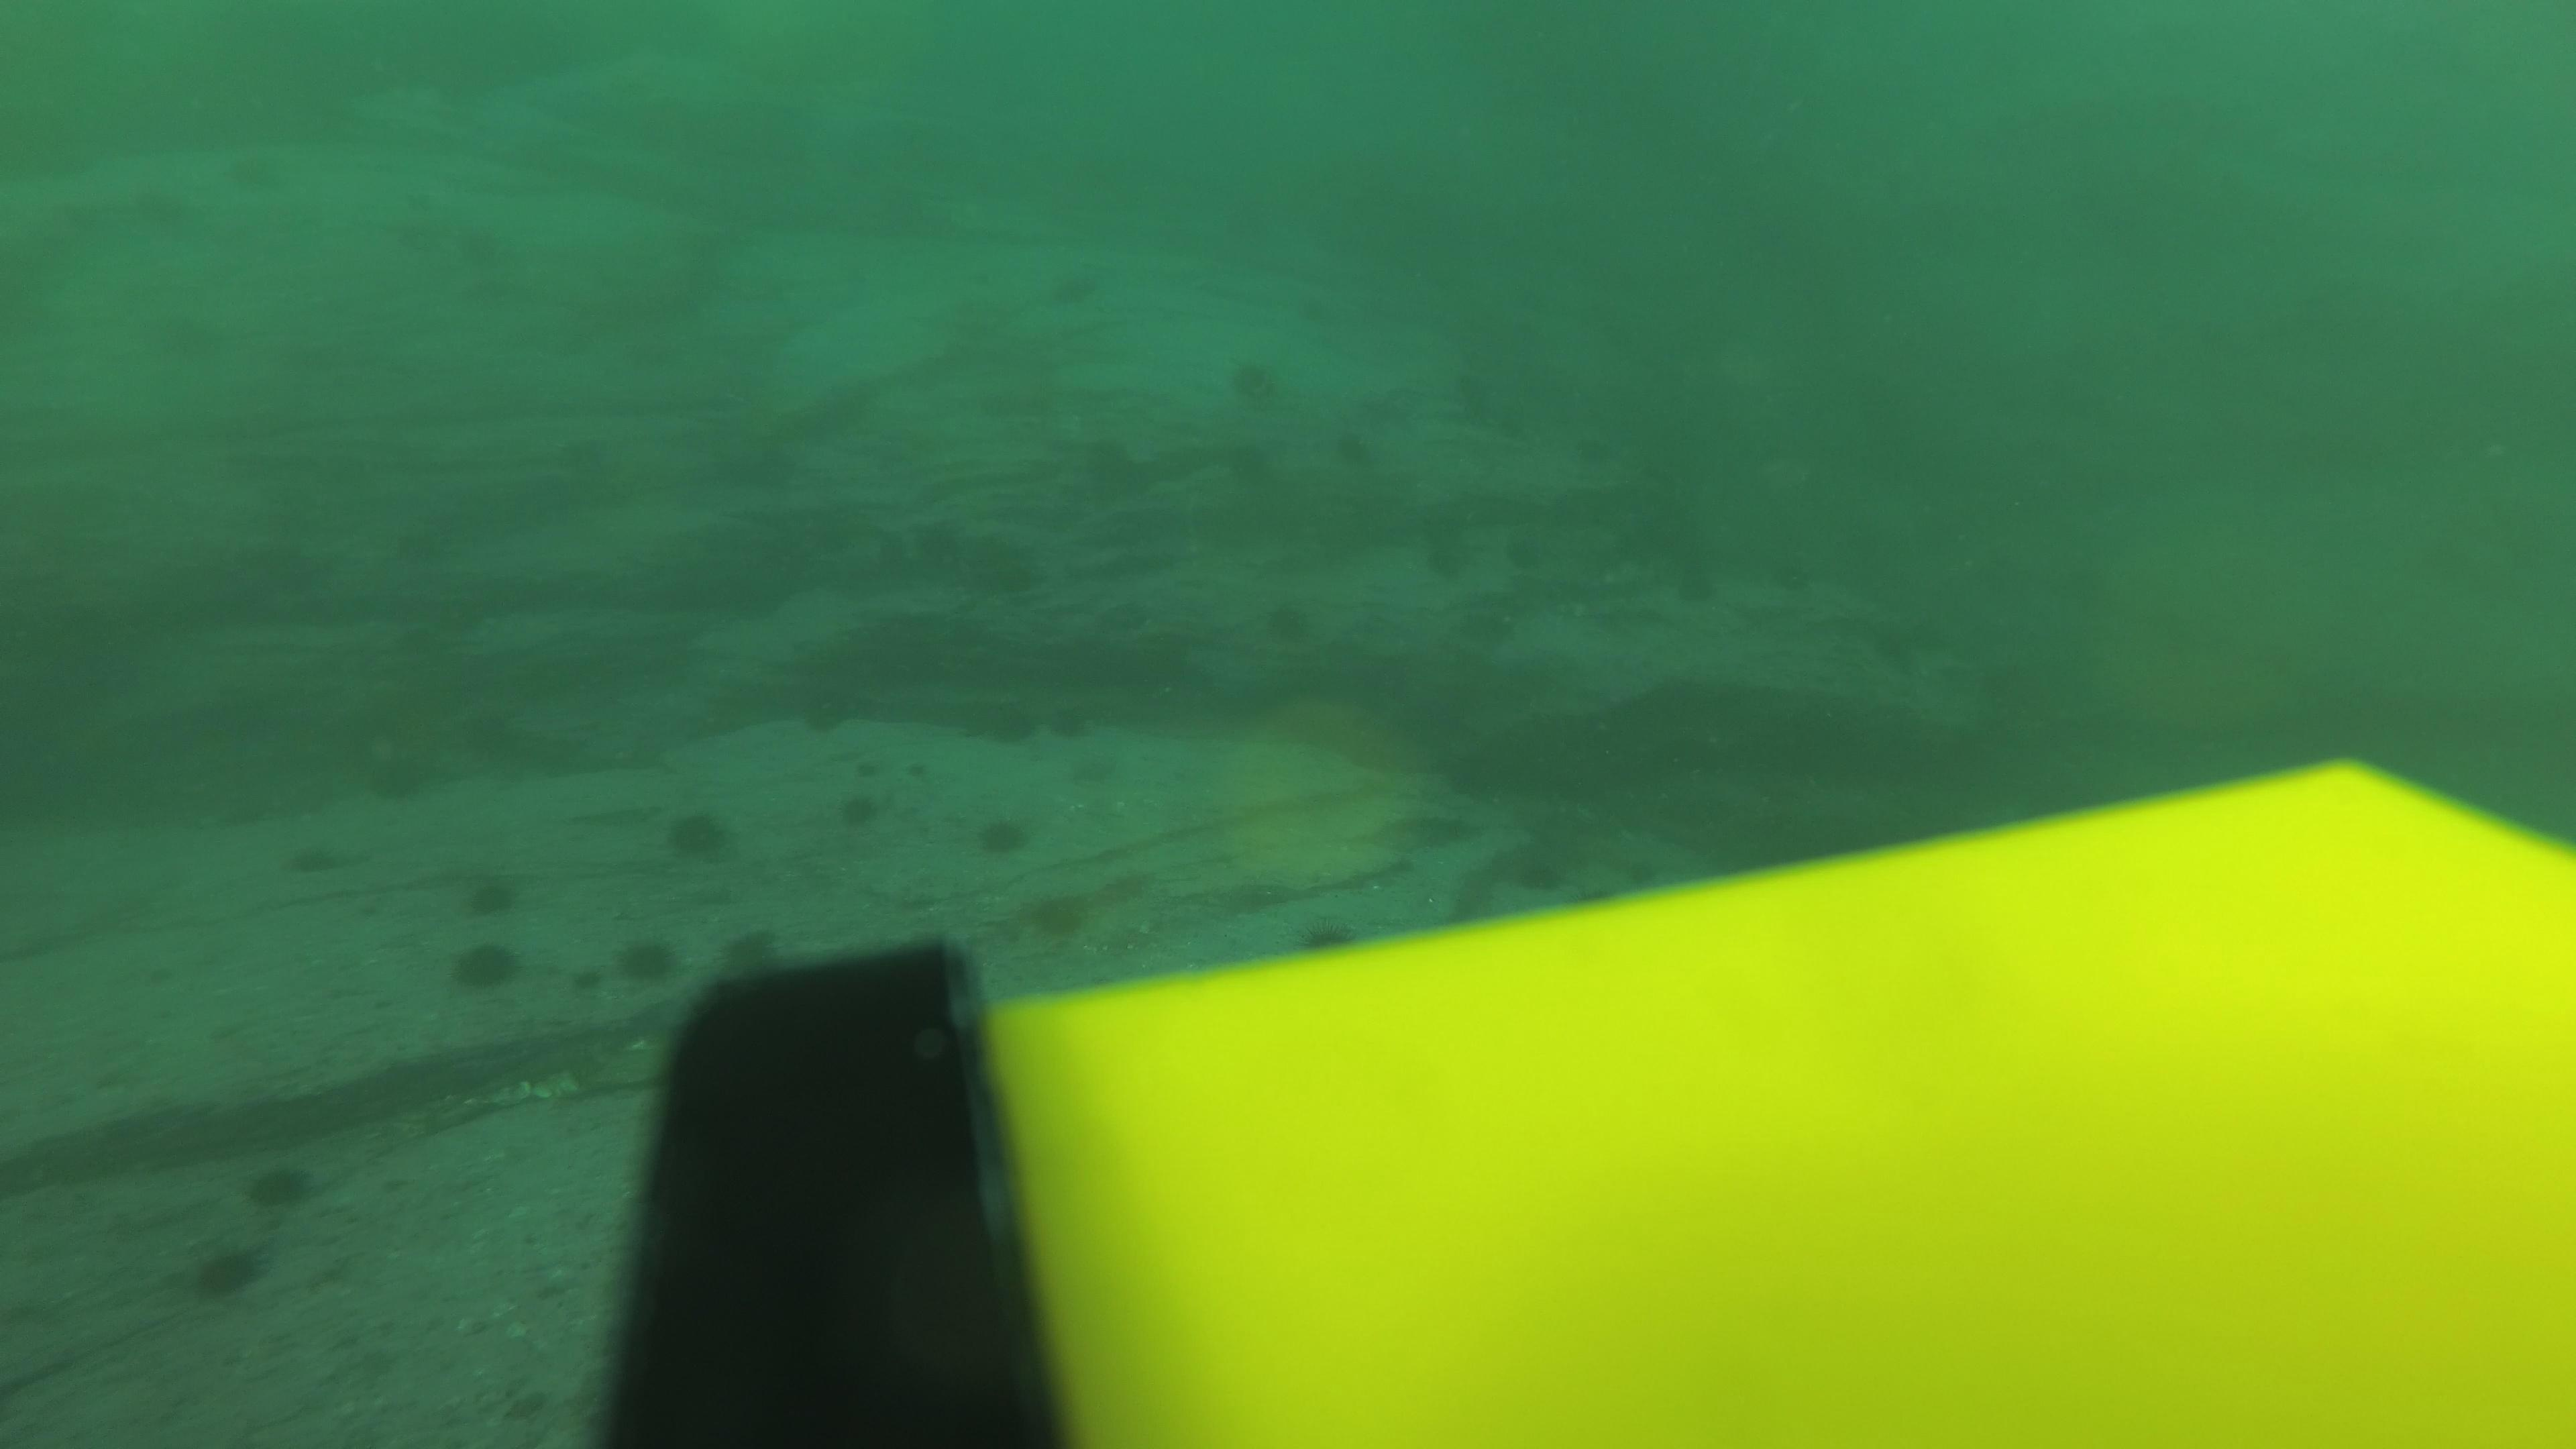echinus: (356, 727, 441, 807), (180, 1237, 269, 1309), (656, 798, 741, 869), (237, 1152, 326, 1219), (442, 934, 525, 1000), (1016, 886, 1095, 950), (711, 924, 787, 987), (1297, 906, 1371, 966), (612, 929, 683, 991), (456, 862, 527, 922), (971, 805, 1037, 863), (280, 835, 350, 879), (832, 784, 888, 835), (801, 692, 858, 734), (1042, 702, 1099, 745), (1458, 605, 1514, 648), (1226, 444, 1283, 487), (1093, 455, 1150, 497), (879, 531, 936, 573), (816, 510, 872, 552), (225, 154, 281, 196), (1417, 800, 1474, 842), (1263, 598, 1318, 640), (1497, 531, 1552, 573), (989, 706, 1046, 747), (1417, 531, 1474, 571), (1226, 356, 1283, 396), (1329, 428, 1385, 469), (1472, 398, 1529, 439), (1362, 324, 1419, 364), (1079, 435, 1136, 476), (543, 428, 600, 469), (462, 267, 518, 308), (449, 219, 506, 260), (129, 175, 186, 216), (1513, 858, 1569, 899), (1670, 570, 1727, 610), (1049, 264, 1104, 304), (985, 559, 1040, 600), (911, 517, 966, 557), (570, 962, 609, 994), (844, 754, 883, 784), (899, 752, 938, 782)
